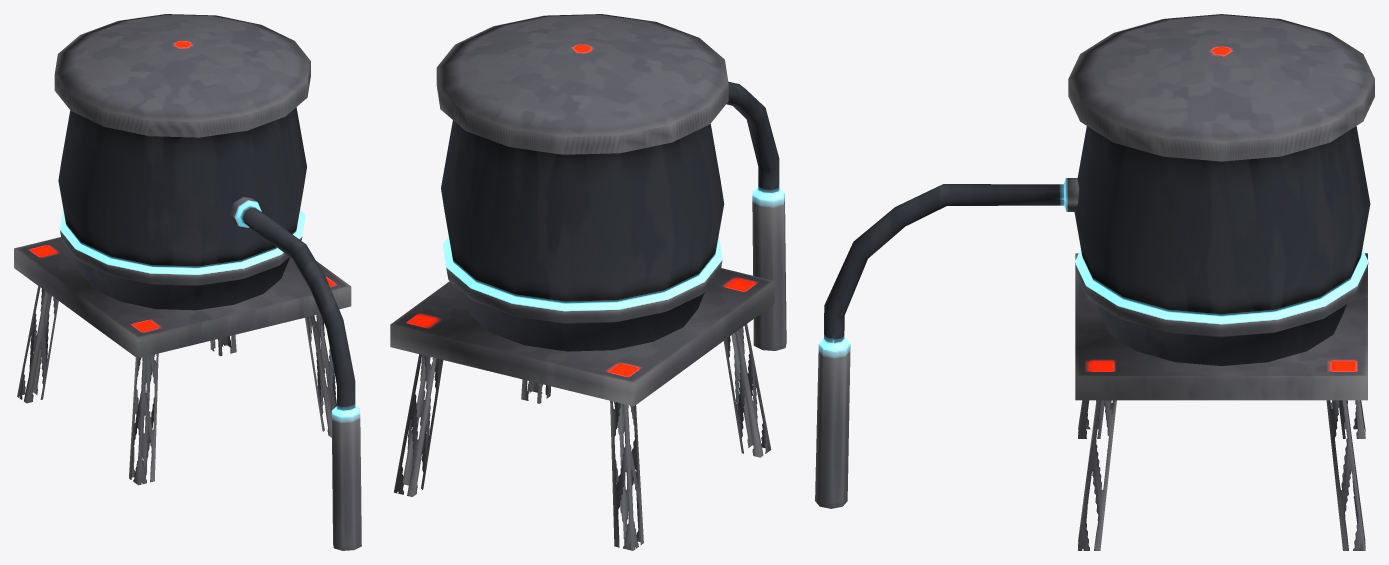
The model's file is Watertank.fbx.
3 renders of one model, left to right at view 1: azimuth 30°, elevation 25°; view 2: azimuth 150°, elevation 25°; view 3: azimuth 270°, elevation 25°, orthographic. The views are drawn at different scales.
Visible parts, largest first — view 1: Watertank; view 2: Watertank; view 3: Watertank.
Boxes of the visible parts, bbox=[...] form: Watertank: bbox=[14, 14, 361, 550]; Watertank: bbox=[390, 14, 786, 550]; Watertank: bbox=[815, 14, 1374, 550].
Size of the model in its own units: 885 by 1440 by 1617.
